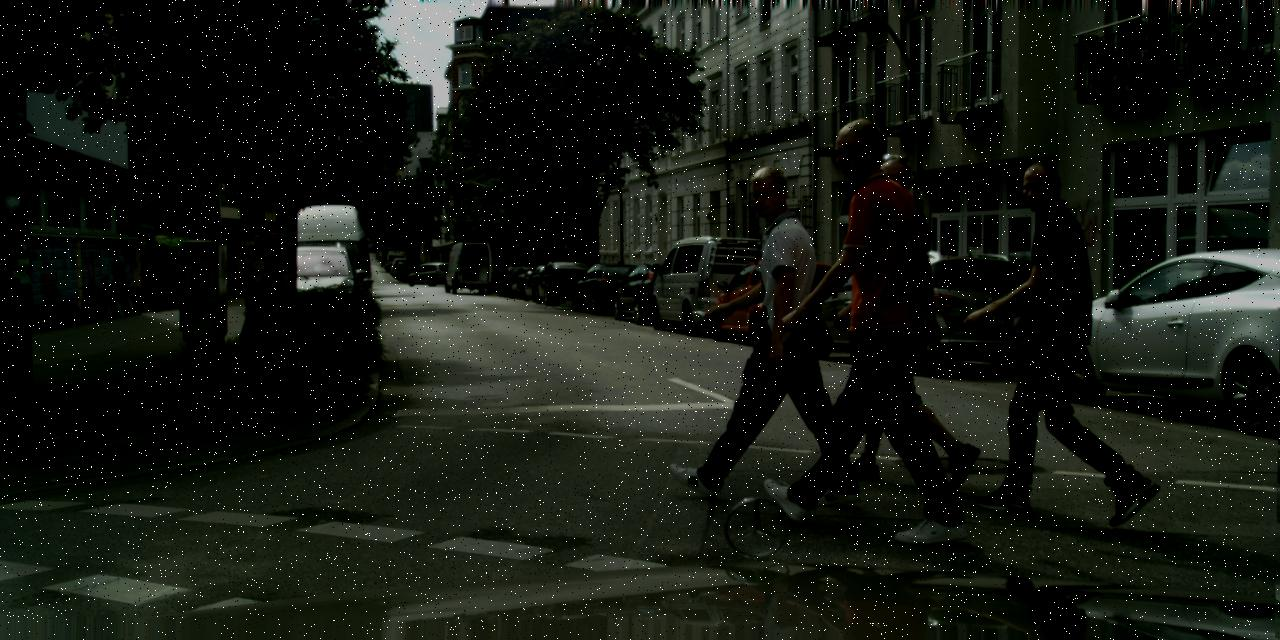ped: (774, 117, 944, 532), (983, 160, 1128, 516), (696, 164, 833, 500), (837, 154, 972, 486)
